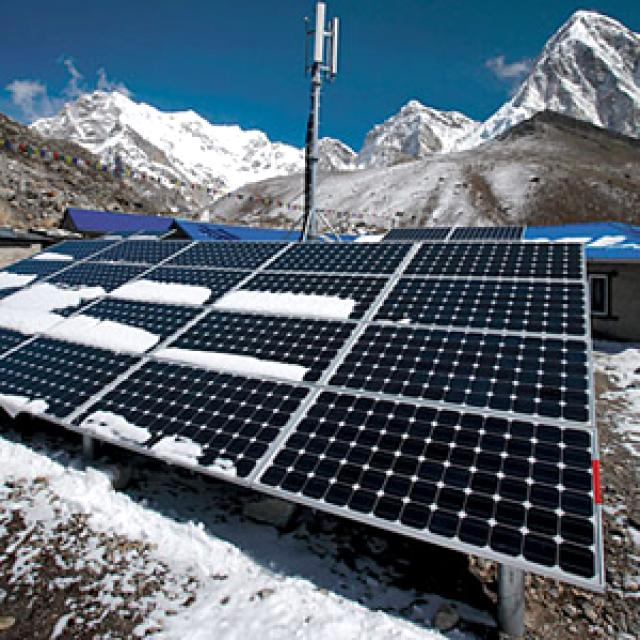panel: (91, 394, 265, 494), (210, 272, 362, 348), (161, 327, 314, 389), (55, 288, 158, 364), (109, 260, 212, 312), (2, 243, 58, 334), (362, 303, 424, 338), (0, 387, 70, 417)
